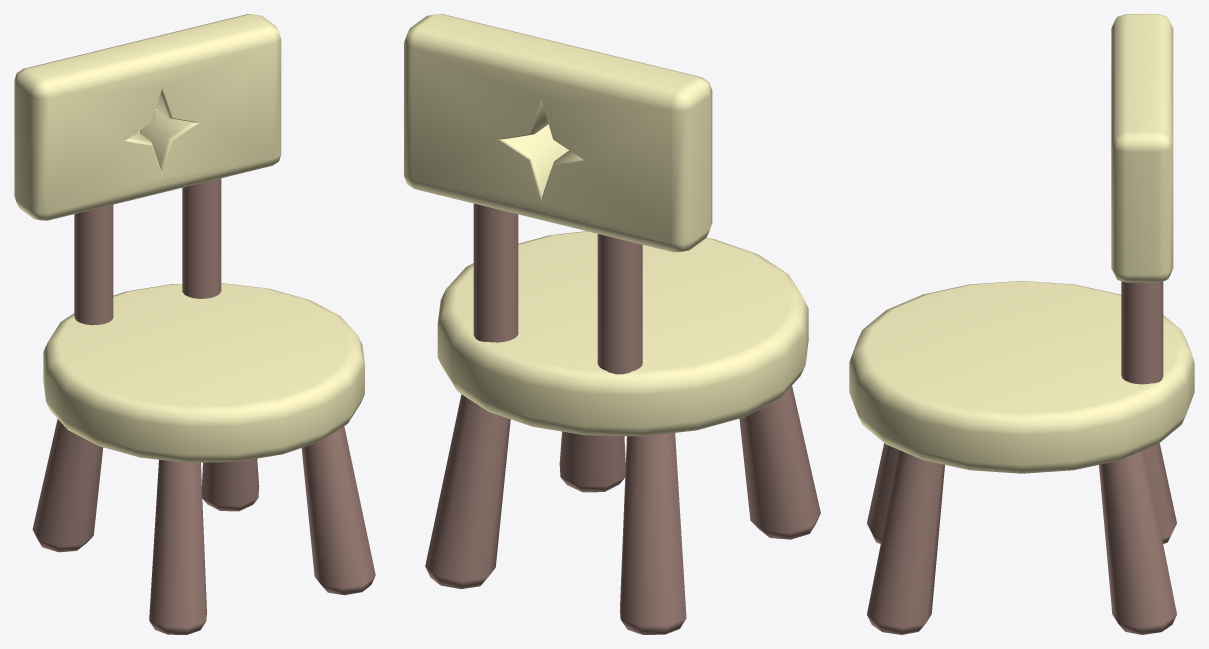
File: Town_10_Chair_1.glb
3 renders of one model, left to right at view 1: azimuth 30°, elevation 25°; view 2: azimuth 150°, elevation 25°; view 3: azimuth 270°, elevation 25°, orthographic. The views are drawn at different scales.
Parts seen in each view (by area): view 1: Town_10_Chair_1; view 2: Town_10_Chair_1; view 3: Town_10_Chair_1.
Part boxes in pixels (x1,y1,x2,y2): Town_10_Chair_1: (14,14,375,634); Town_10_Chair_1: (404,14,820,634); Town_10_Chair_1: (849,14,1194,634).
Bounding box in the file's own units: 0.6035 × 0.9866 × 0.6035.
Materials: 1 (1 with a texture image).
